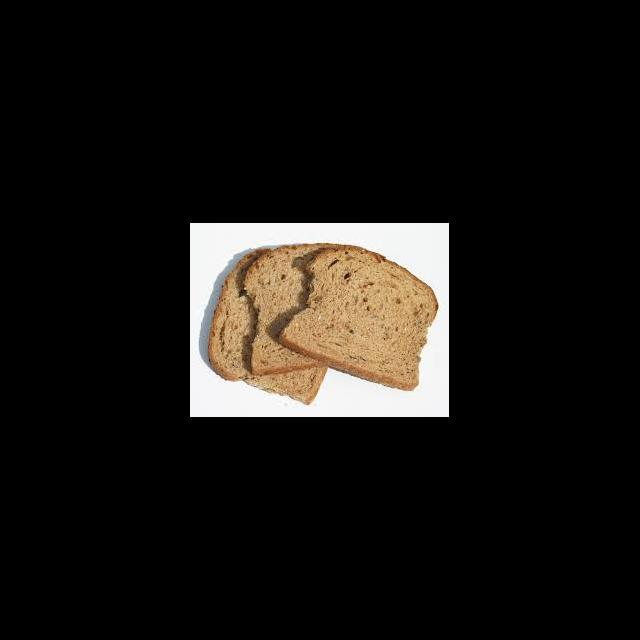food_waste: (192, 234, 445, 412)
